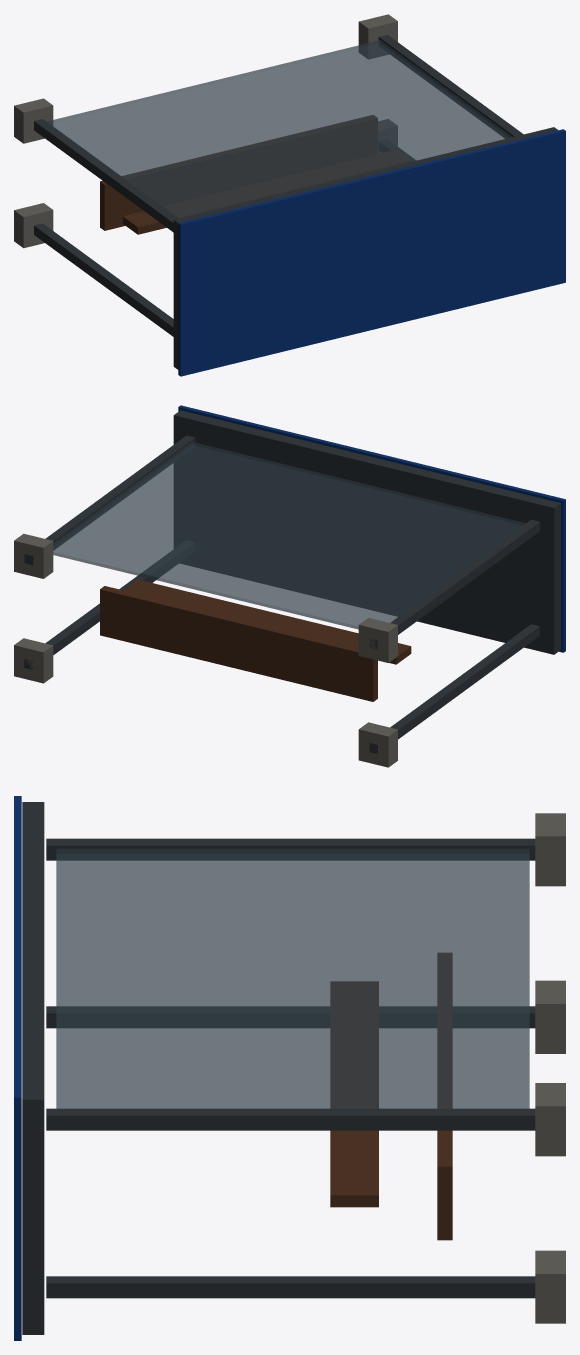
Rendered from shelter_LOD1.obj.
3 renders of one model, top to bottom at view 1: azimuth 30°, elevation 25°; view 2: azimuth 150°, elevation 25°; view 3: azimuth 270°, elevation 25°, orthographic. The views are drawn at different scales.
Visible parts, largest first — view 1: RZ_MODERN_BUS_SHELTER_LOD1; view 2: RZ_MODERN_BUS_SHELTER_LOD1; view 3: RZ_MODERN_BUS_SHELTER_LOD1.
Boxes of the visible parts, bbox=[...] form: RZ_MODERN_BUS_SHELTER_LOD1: bbox=[14, 14, 565, 376]; RZ_MODERN_BUS_SHELTER_LOD1: bbox=[14, 405, 565, 767]; RZ_MODERN_BUS_SHELTER_LOD1: bbox=[14, 796, 565, 1340].
Size of the model in its own units: 3.24 by 1.22 by 2.51.
